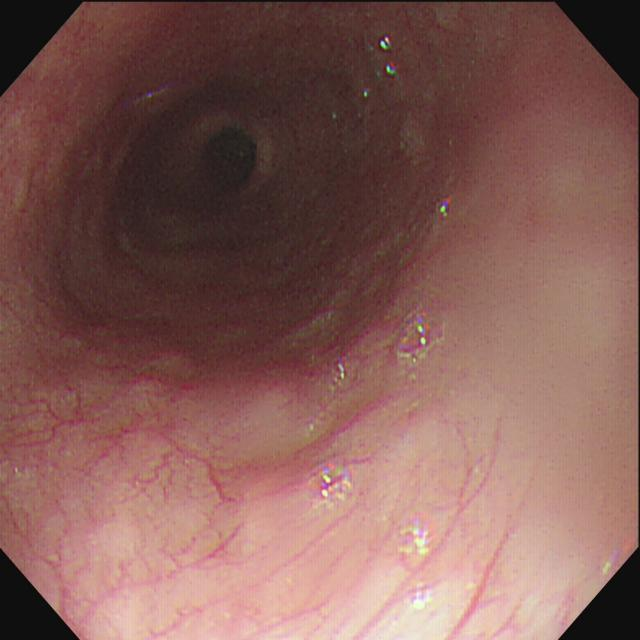E: (171, 101, 291, 215)
T: (392, 311, 453, 368), (301, 462, 359, 512)
U: (379, 35, 396, 75)
